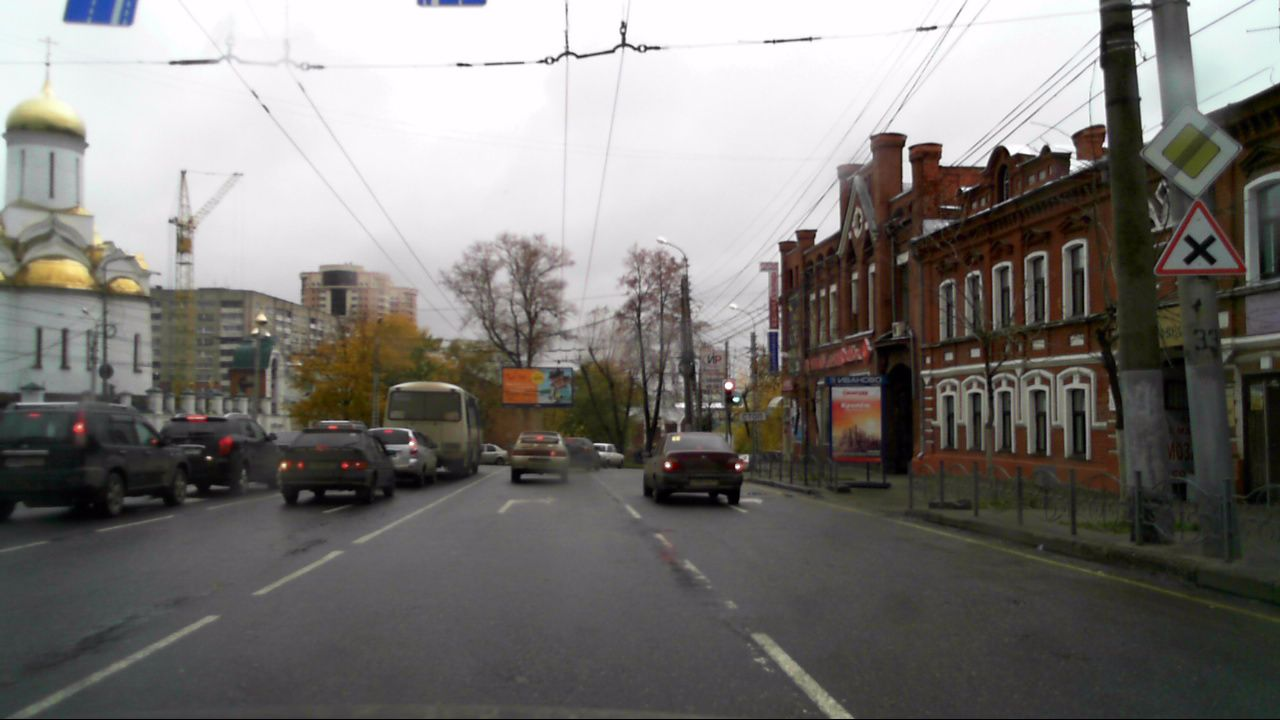main road: (1138, 104, 1245, 198)
